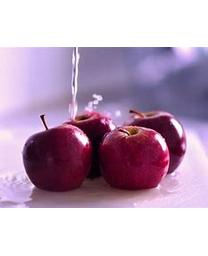apple: (23, 113, 94, 191), (97, 125, 169, 189), (123, 109, 186, 174), (64, 113, 115, 176)
